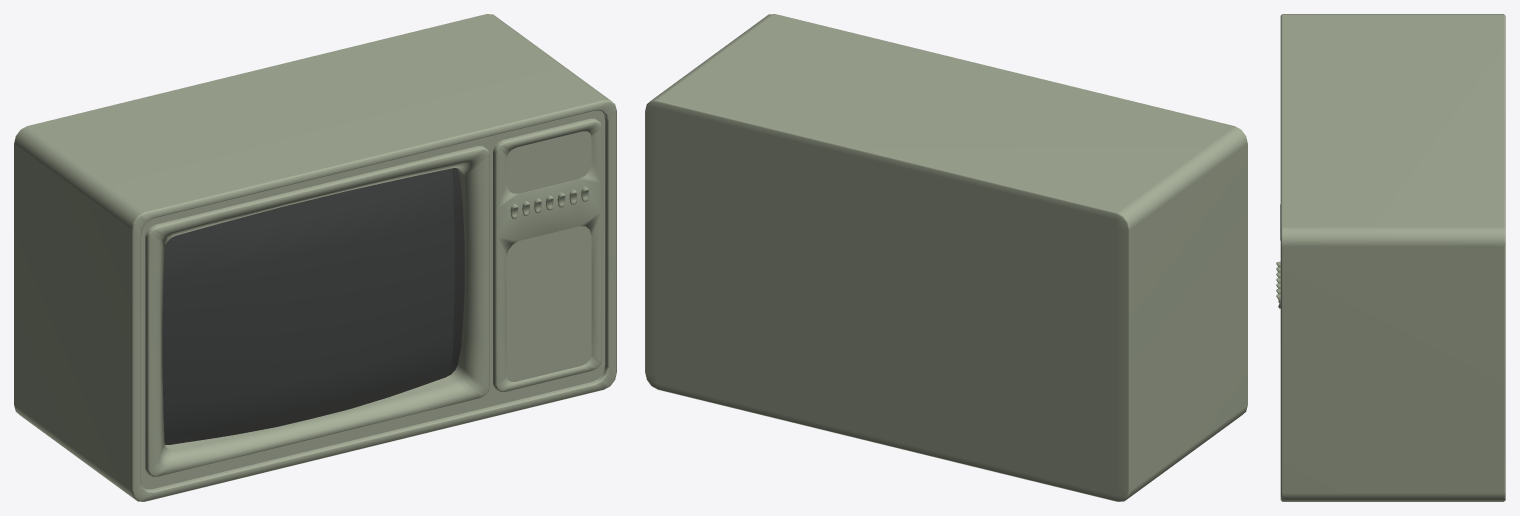
Rendered from SM_TV_80S_B_Medium.fbx.
The picture shows the model from 3 angles, left to right: view 1: azimuth 30°, elevation 25°; view 2: azimuth 150°, elevation 25°; view 3: azimuth 270°, elevation 25°; orthographic projection. The views are drawn at different scales.
Visible parts, largest first — view 1: SM_Television_80_B_LP, SM_Glass; view 2: SM_Television_80_B_LP; view 3: SM_Television_80_B_LP.
Part boxes in pixels (box(x1,y1,x2,y2)): SM_Television_80_B_LP: box(14, 14, 616, 501); SM_Glass: box(162, 168, 464, 444); SM_Television_80_B_LP: box(645, 14, 1247, 501); SM_Television_80_B_LP: box(1276, 14, 1505, 501).
Bounding box in the file's own units: 2578 × 1471 × 1117.
